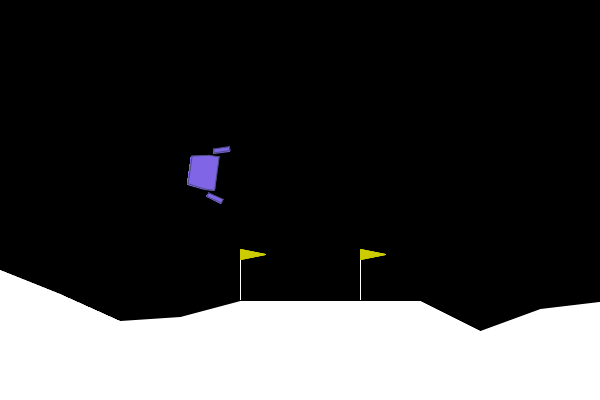lander: (183, 140, 231, 205)
